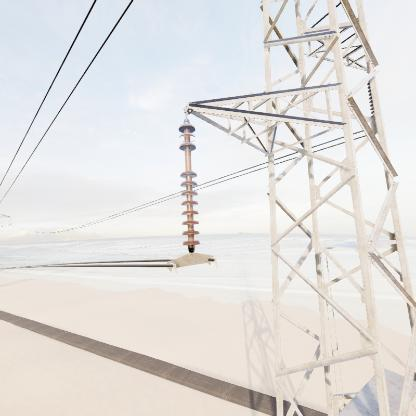insulator: (175, 121, 205, 253)
